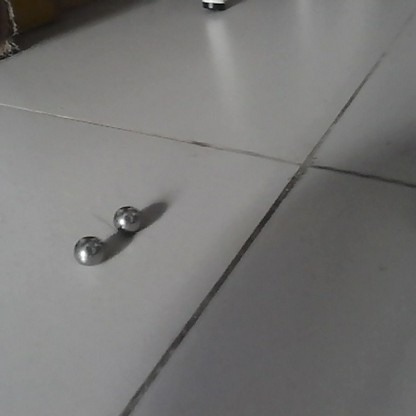ironball: (72, 234, 106, 266), (111, 204, 143, 233)
